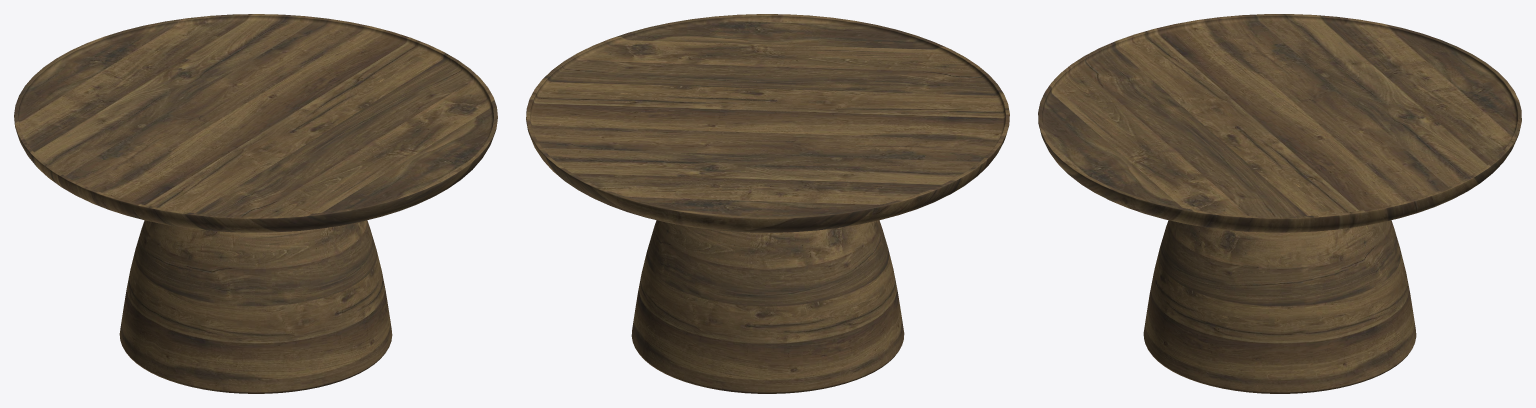
The model's file is lounge-tables.glb.
3 renders of one model, left to right at view 1: azimuth 30°, elevation 25°; view 2: azimuth 150°, elevation 25°; view 3: azimuth 270°, elevation 25°, orthographic.
Visible parts, largest first — view 1: Tables_Coffee-Tables_Wood-Round_01; view 2: Tables_Coffee-Tables_Wood-Round_01; view 3: Tables_Coffee-Tables_Wood-Round_01.
Boxes of the visible parts, x1=… form: Tables_Coffee-Tables_Wood-Round_01: x1=14, y1=14, x2=497, y2=393; Tables_Coffee-Tables_Wood-Round_01: x1=526, y1=14, x2=1009, y2=393; Tables_Coffee-Tables_Wood-Round_01: x1=1038, y1=14, x2=1521, y2=393.
Size of the model in its own units: 0.6969 by 0.3514 by 0.6969.
1 material, 1 textured.
